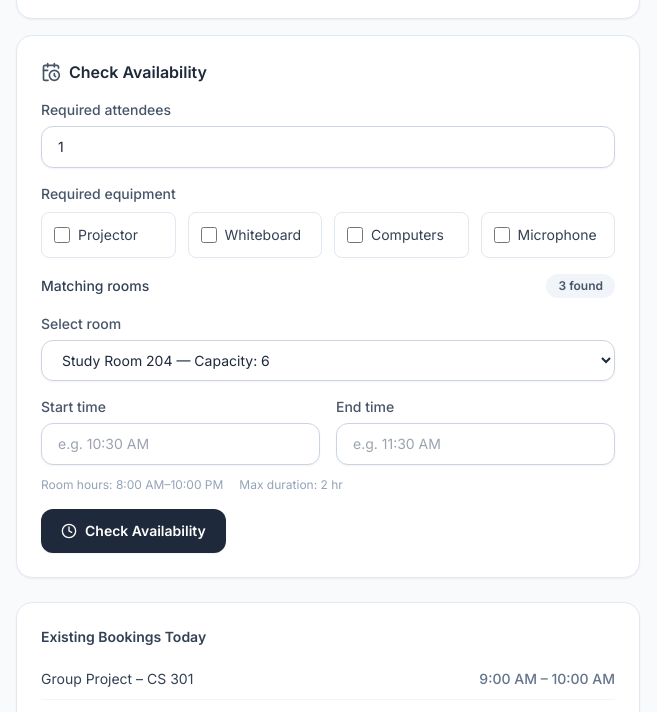
Scenario: Smart Campus Room Availability Checker › T12 F5: refreshes the availability result when the selected room changes
(page scrolled)
Select "Innovation Lab — Capacity: 12" in the dropdown labelled "Select room" at (328, 360), box [41,340,615,381]
(page scrolled)
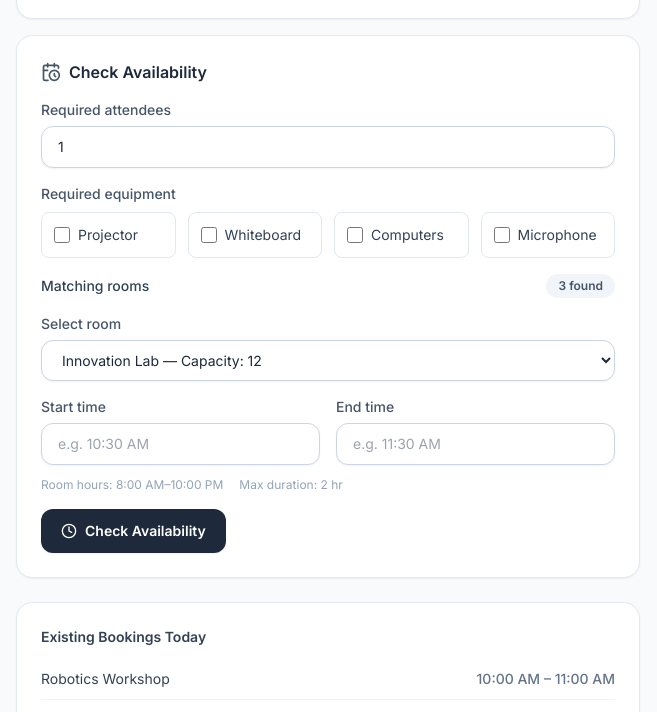
Type "10:30 AM" into the field labelled "Start time" at (180, 444), box [41,423,320,465]
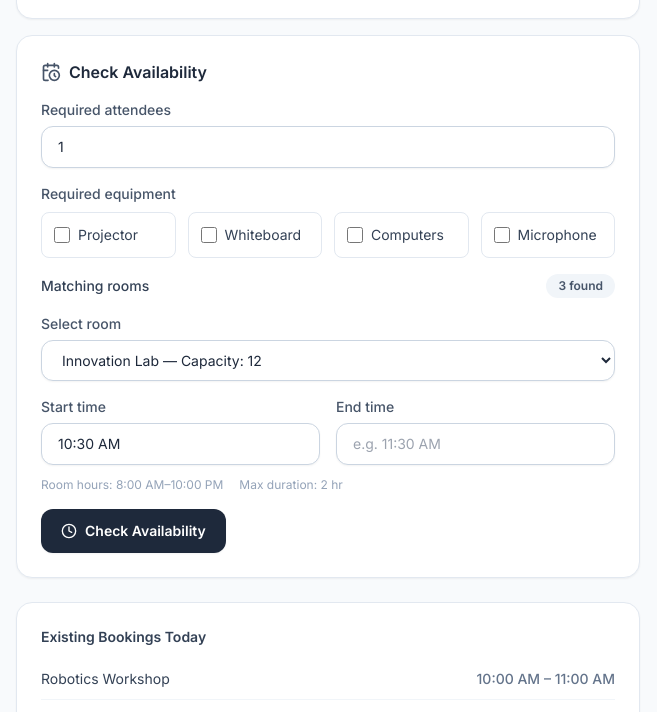
Type "11:30 AM" into the field labelled "End time" at (476, 444), box [336,423,615,465]
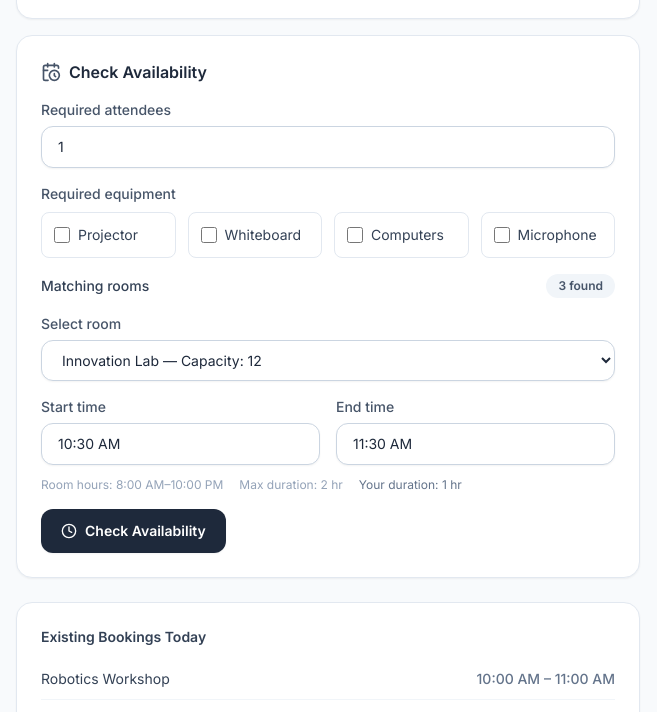
Click the button "Check Availability" at (133, 531), box [41,509,226,553]
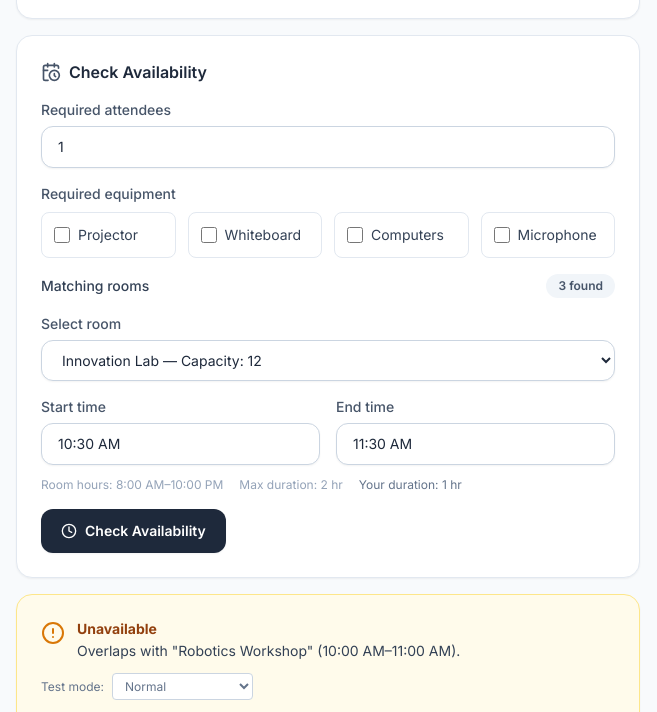
Expected: the text "Unavailable" is shown, [77,620,157,637]
Select "Study Room 204 — Capacity: 6" in the dropdown labelled "Select room" at (328, 360), box [41,340,615,381]
(page scrolled)
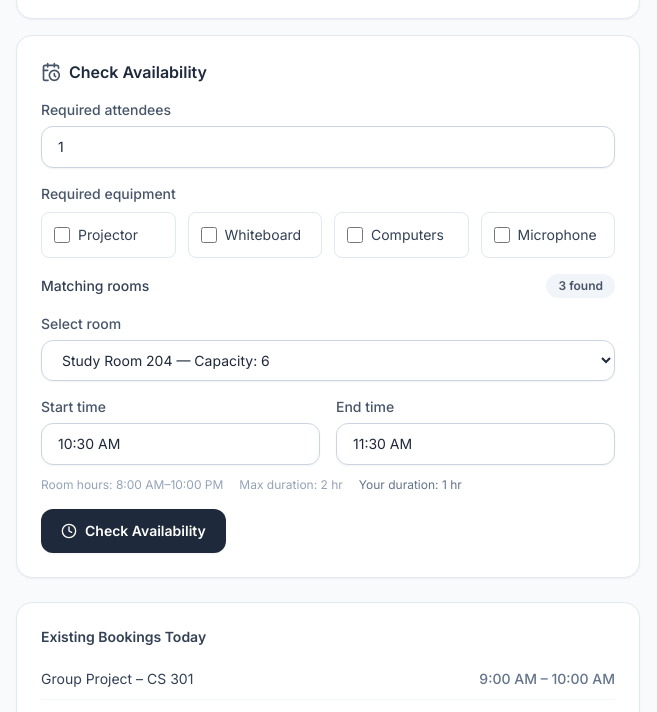
Expected: the text "Available" is not shown
Expected: the text "Unavailable" is gone
